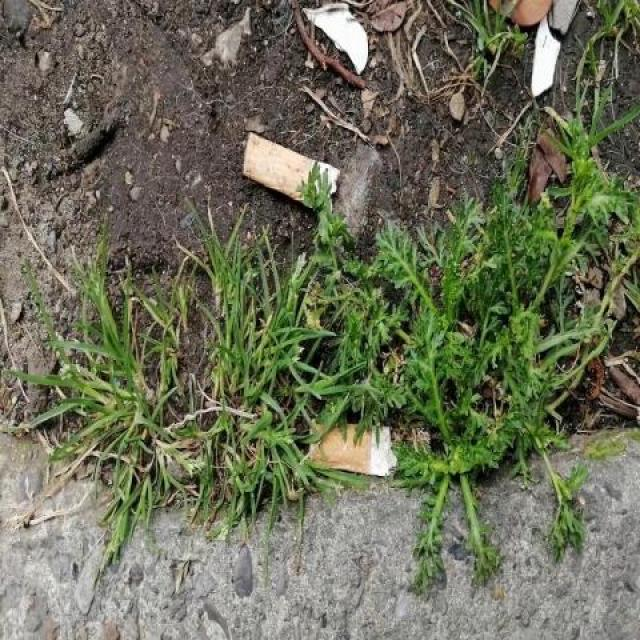non-organic waste: (239, 127, 345, 220), (306, 415, 401, 486)
